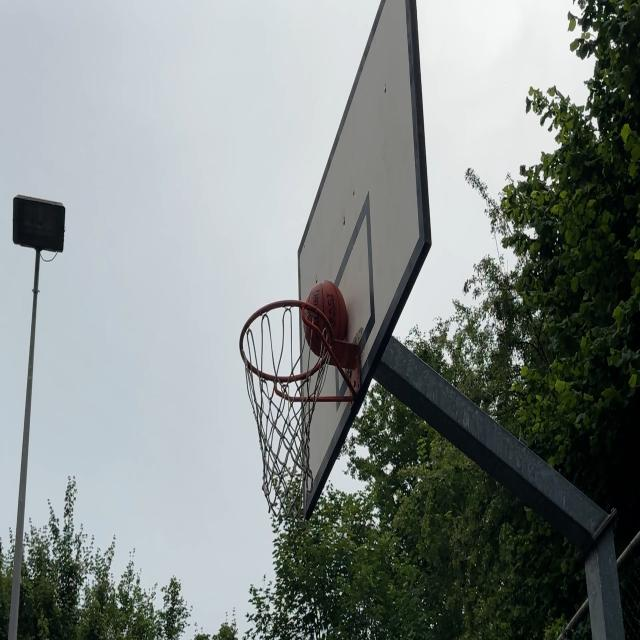rebound_hit: (304, 280, 351, 357)
